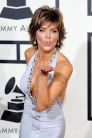female: (28, 10, 66, 56)
